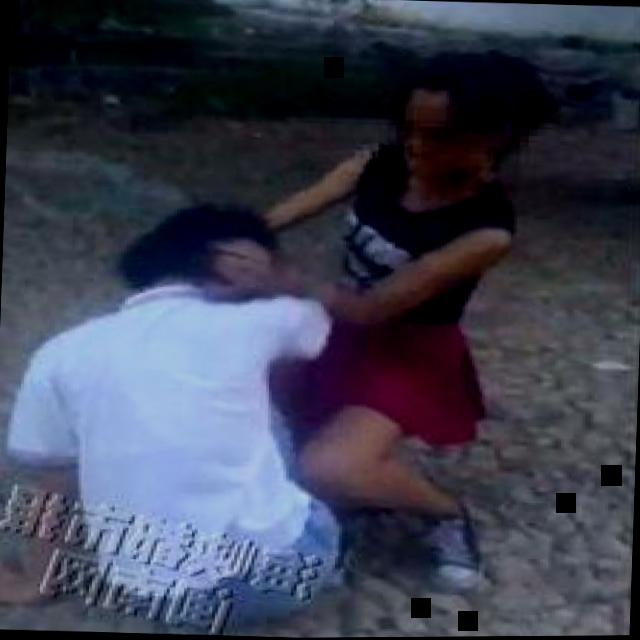Fall-Detected: (0, 190, 388, 633)
